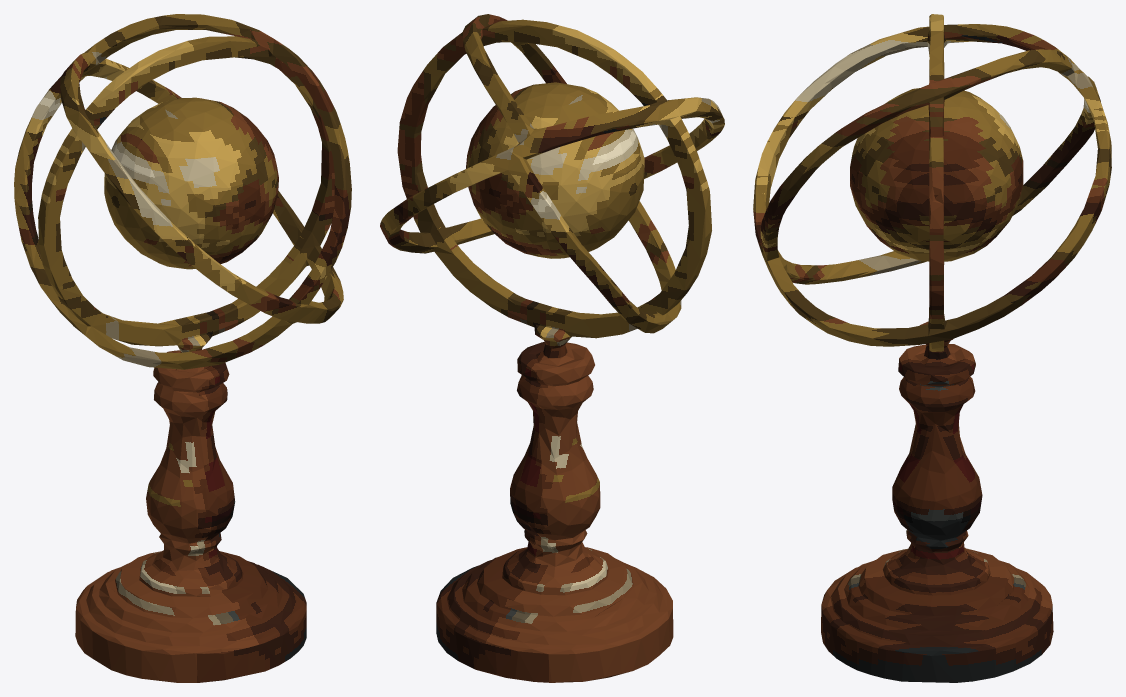
The model's file is orrery.glb.
The picture shows the model from 3 angles, left to right: view 1: azimuth 30°, elevation 25°; view 2: azimuth 150°, elevation 25°; view 3: azimuth 270°, elevation 25°; orthographic projection. The views are drawn at different scales.
Visible parts, largest first — view 1: orrery; view 2: orrery; view 3: orrery.
Boxes of the visible parts, x1,y1,x2,y2 form: orrery: (14,14,351,682); orrery: (380,14,724,682); orrery: (753,14,1111,682).
Bounding box in the file's own units: 0.6651 × 1.25 × 0.674.
1 material, 1 textured.
